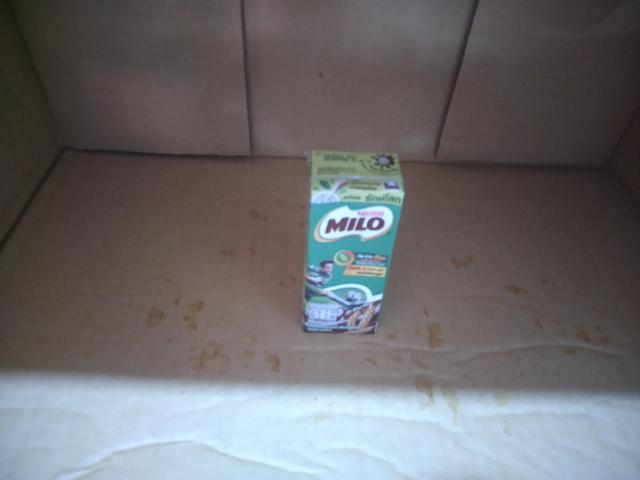drink_box: (298, 128, 422, 356)
